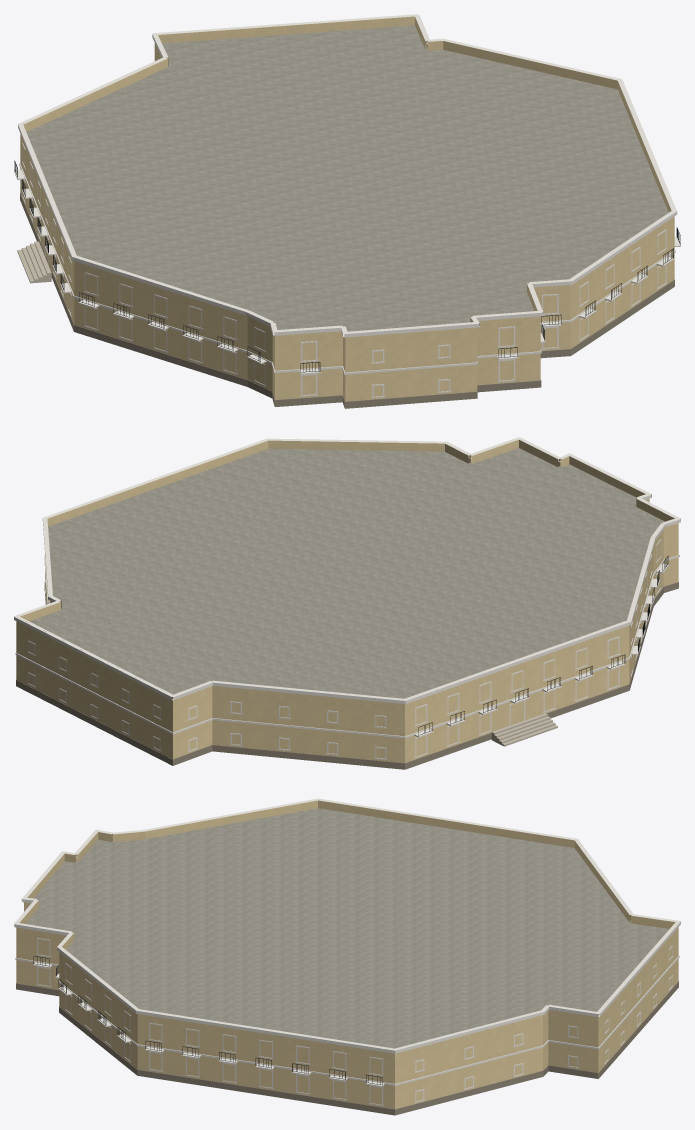
3 renders of one model, top to bottom at view 1: azimuth 30°, elevation 25°; view 2: azimuth 150°, elevation 25°; view 3: azimuth 270°, elevation 25°, orthographic. The views are drawn at different scales.
Parts seen in each view (by area): view 1: B-w108197586_cubierta, B-w108197586_muros, B-w108197586_molduras, B-w108197586_lejos, B-w108197586_remates; view 2: B-w108197586_cubierta, B-w108197586_muros, B-w108197586_molduras, B-w108197586_lejos, B-w108197586_remates; view 3: B-w108197586_cubierta, B-w108197586_muros, B-w108197586_molduras, B-w108197586_lejos, B-w108197586_remates.
Part boxes in pixels (x1=…): B-w108197586_cubierta: x1=20, y1=15, x2=674, y2=332; B-w108197586_muros: x1=20, y1=41, x2=674, y2=406; B-w108197586_molduras: x1=18, y1=14, x2=677, y2=408; B-w108197586_lejos: x1=23, y1=55, x2=674, y2=399; B-w108197586_remates: x1=14, y1=160, x2=680, y2=374; B-w108197586_cubierta: x1=16, y1=438, x2=677, y2=699; B-w108197586_muros: x1=16, y1=455, x2=678, y2=765; B-w108197586_molduras: x1=14, y1=437, x2=680, y2=769; B-w108197586_lejos: x1=26, y1=527, x2=678, y2=763; B-w108197586_remates: x1=414, y1=555, x2=668, y2=746; B-w108197586_cubierta: x1=16, y1=799, x2=678, y2=1049; B-w108197586_muros: x1=16, y1=831, x2=678, y2=1109; B-w108197586_molduras: x1=14, y1=798, x2=680, y2=1115; B-w108197586_lejos: x1=24, y1=906, x2=669, y2=1109; B-w108197586_remates: x1=33, y1=956, x2=384, y2=1086.
Bounding box in the file's own units: 63.65 × 7.82 × 70.87.
3 materials, 3 textured.
